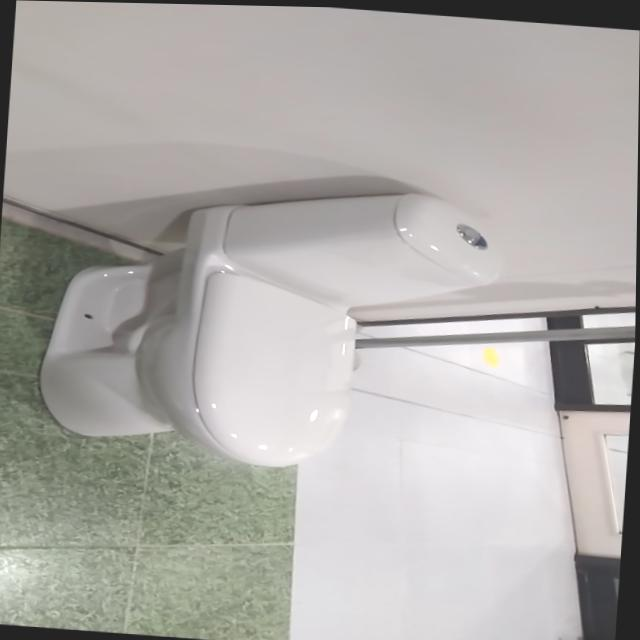toilet: (34, 164, 508, 481)
